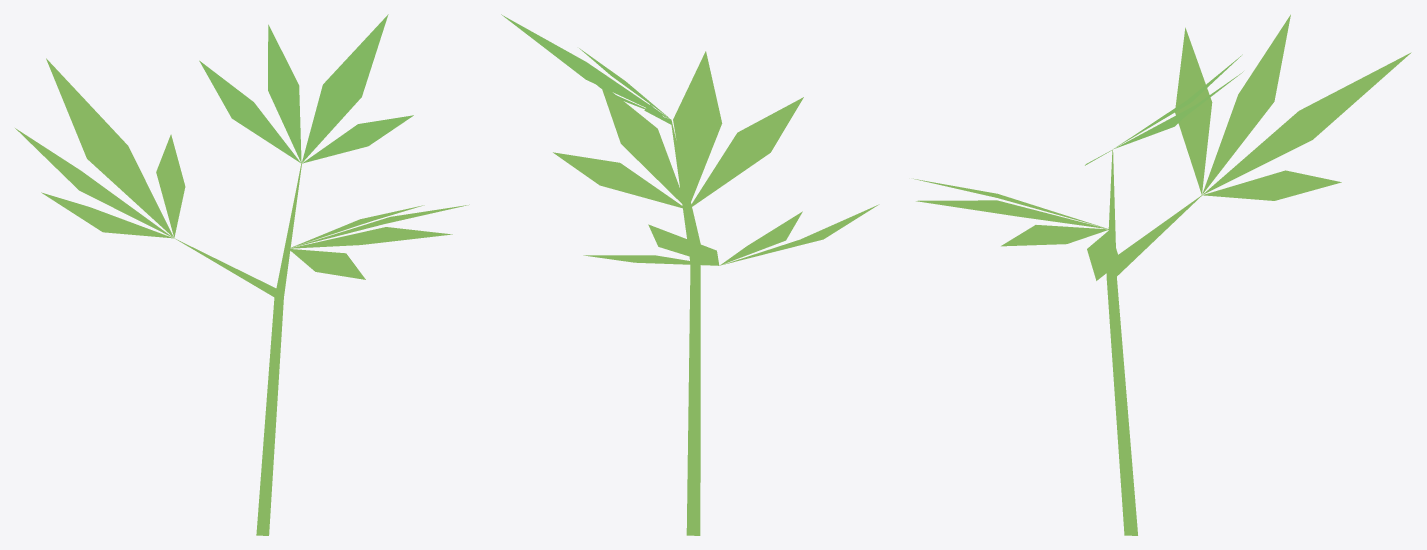
The model's file is Plant_i_OneS_07.fbx.
The picture shows the model from 3 angles, left to right: view 1: azimuth 30°, elevation 25°; view 2: azimuth 150°, elevation 25°; view 3: azimuth 270°, elevation 25°; orthographic projection. The views are drawn at different scales.
Parts seen in each view (by area): view 1: Plant_i_OneS_07; view 2: Plant_i_OneS_07; view 3: Plant_i_OneS_07.
Part boxes in pixels (x1,y1,x2,y2): Plant_i_OneS_07: [15, 14, 469, 535]; Plant_i_OneS_07: [501, 14, 879, 535]; Plant_i_OneS_07: [913, 14, 1411, 535].
Bounding box in the file's own units: 0.6104 × 0.7726 × 0.7023.
